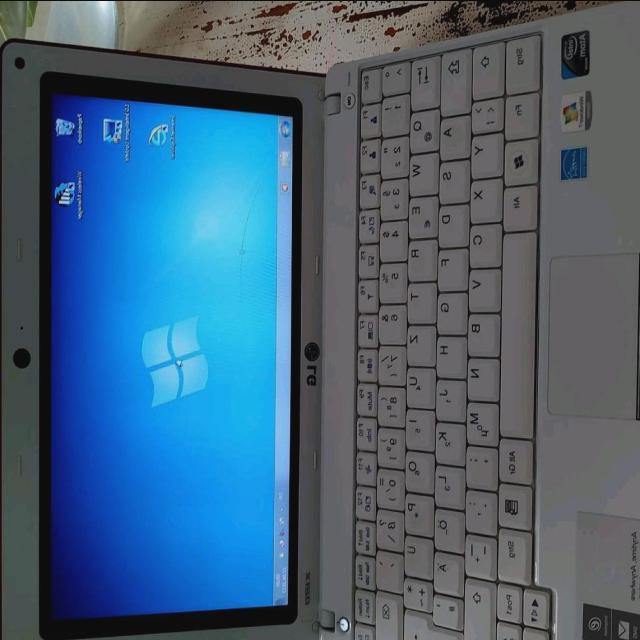0: (374, 466, 402, 506)
1: (379, 92, 407, 133)
2: (379, 134, 407, 176)
3: (378, 175, 406, 217)
4: (377, 218, 405, 258)
5: (377, 260, 405, 300)
6: (376, 302, 404, 342)
7: (375, 342, 403, 382)
8: (375, 383, 403, 423)
9: (375, 425, 403, 465)
a: (437, 112, 468, 156)
accent: (373, 548, 401, 588)
ae: (431, 550, 461, 593)
alt-left: (500, 181, 536, 227)
altgr-right: (497, 435, 531, 481)
b: (466, 310, 498, 354)
c: (467, 220, 499, 266)
caret: (380, 58, 408, 92)
comma: (463, 443, 495, 487)
d: (436, 202, 468, 244)
del: (373, 588, 400, 640)
e: (406, 194, 436, 236)
enter: (400, 607, 458, 640)
f: (435, 246, 467, 287)
g: (434, 289, 465, 331)
h: (434, 333, 464, 375)
hash: (430, 592, 460, 626)
i: (403, 406, 432, 448)
j: (434, 377, 464, 419)
k: (433, 420, 464, 462)
keyboard: (351, 30, 551, 640)
l: (432, 463, 463, 505)
less: (468, 96, 502, 131)
m: (464, 399, 497, 443)
minus: (463, 531, 495, 577)
n: (465, 355, 497, 398)
o: (402, 448, 432, 490)
oe: (432, 507, 463, 550)
p: (402, 491, 432, 533)
plus: (400, 575, 430, 608)
point: (463, 487, 495, 533)
q: (408, 107, 438, 151)
r: (406, 236, 436, 279)
s: (437, 156, 469, 200)
shift-left: (469, 37, 503, 95)
shift-lock: (438, 44, 470, 112)
shift-right: (461, 574, 492, 640)
space: (498, 228, 535, 436)
ss: (374, 506, 402, 548)
strg-left: (502, 29, 539, 91)
strg-right: (495, 525, 529, 581)
t: (405, 280, 435, 320)
tab: (408, 52, 438, 106)
u: (404, 364, 434, 405)
ue: (402, 533, 432, 576)
v: (467, 266, 499, 309)
w: (407, 150, 437, 192)
x: (468, 176, 500, 219)
y: (469, 131, 501, 175)
z: (404, 322, 434, 363)
